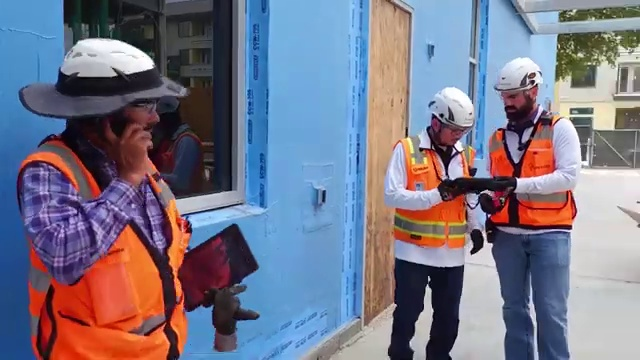helmet: (51, 33, 194, 109), (488, 49, 554, 94), (427, 83, 481, 136)
jacket: (9, 130, 197, 360), (386, 134, 478, 274), (489, 111, 588, 237)
